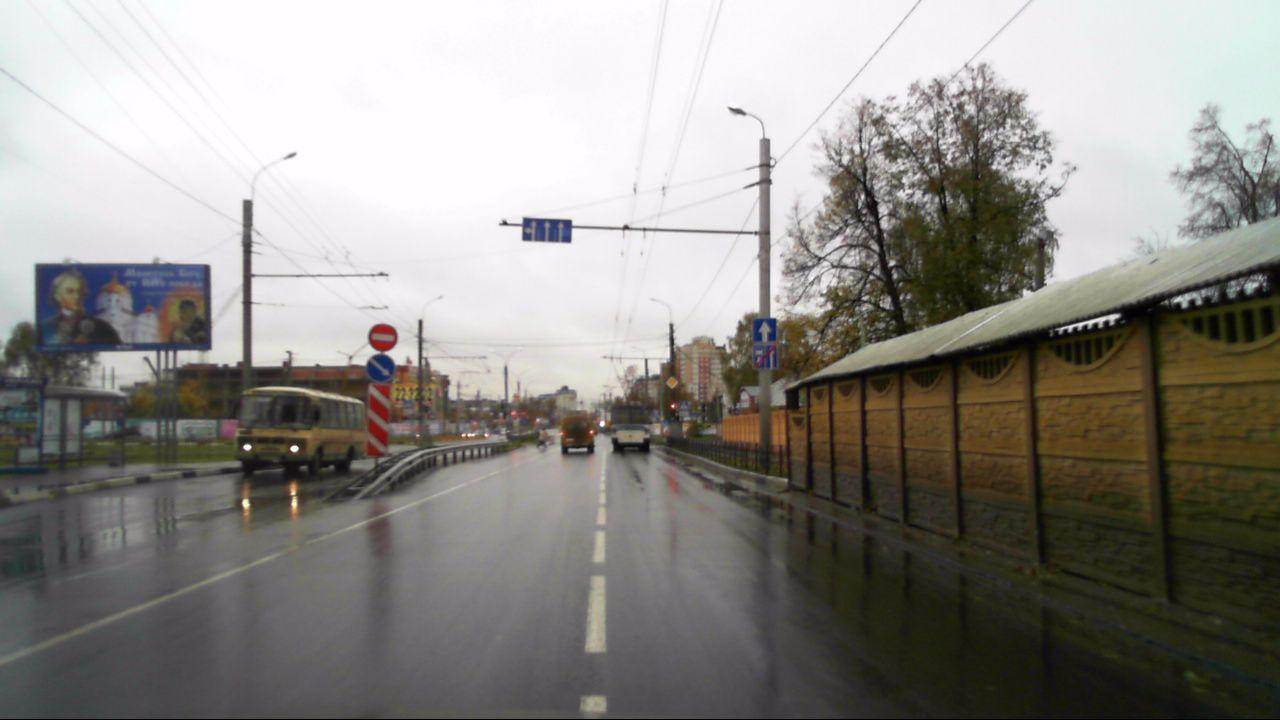2_1: (666, 376, 679, 390)
3_1: (368, 322, 398, 351)
4_2_1: (364, 352, 396, 382)
5_12_1: (751, 345, 775, 369)
5_15_1: (522, 216, 573, 244)
5_19_1: (680, 400, 689, 410)
5_5: (751, 317, 777, 343)
8_22_1: (367, 382, 392, 458)
